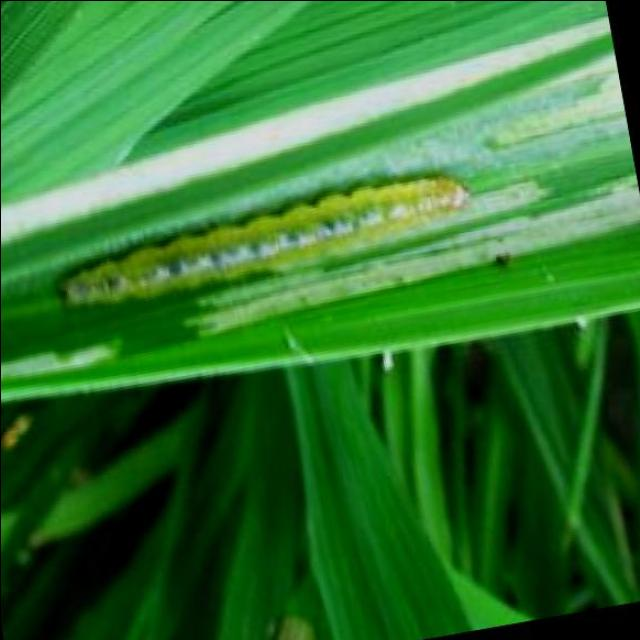leaf folder: (63, 176, 468, 305)
